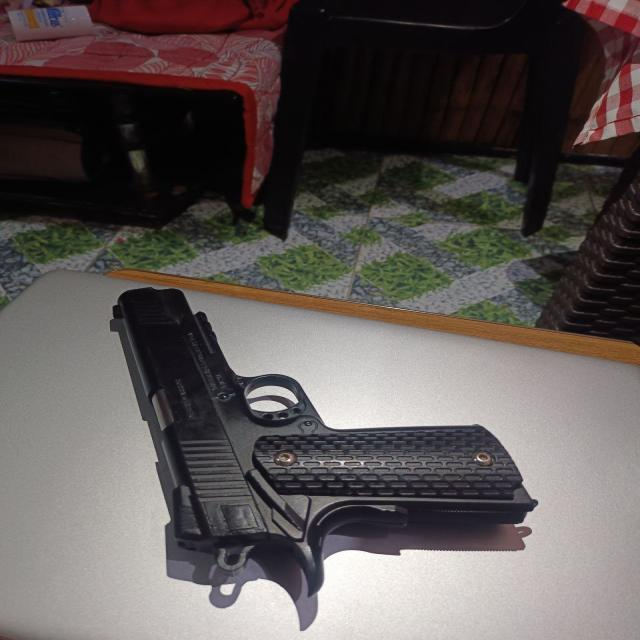pistol: (111, 287, 535, 598)
